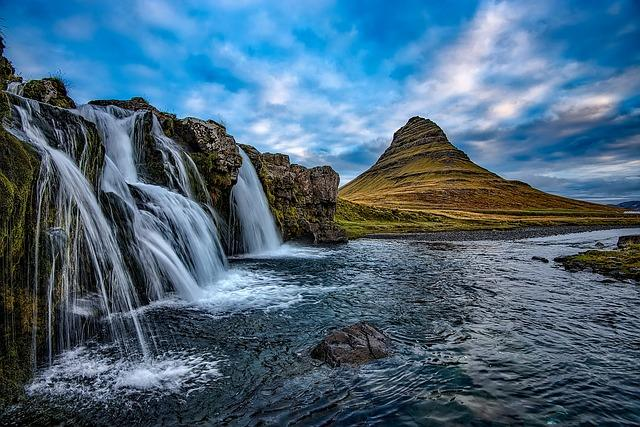Non_Gorille: (17, 27, 621, 389)
